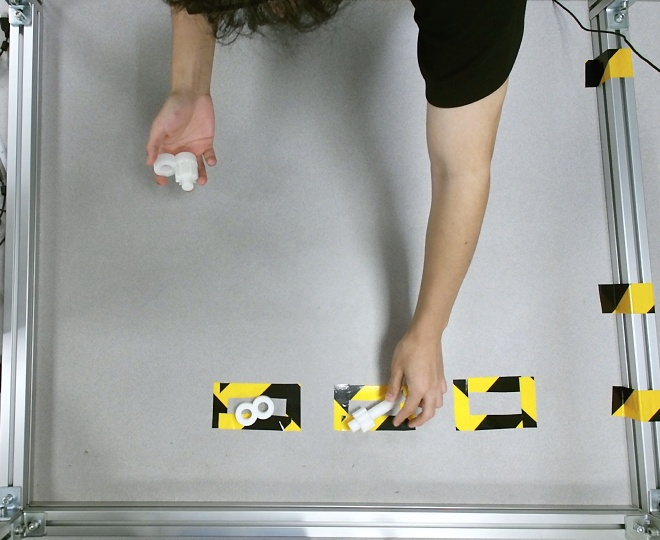stage_2: (152, 152, 199, 190)
